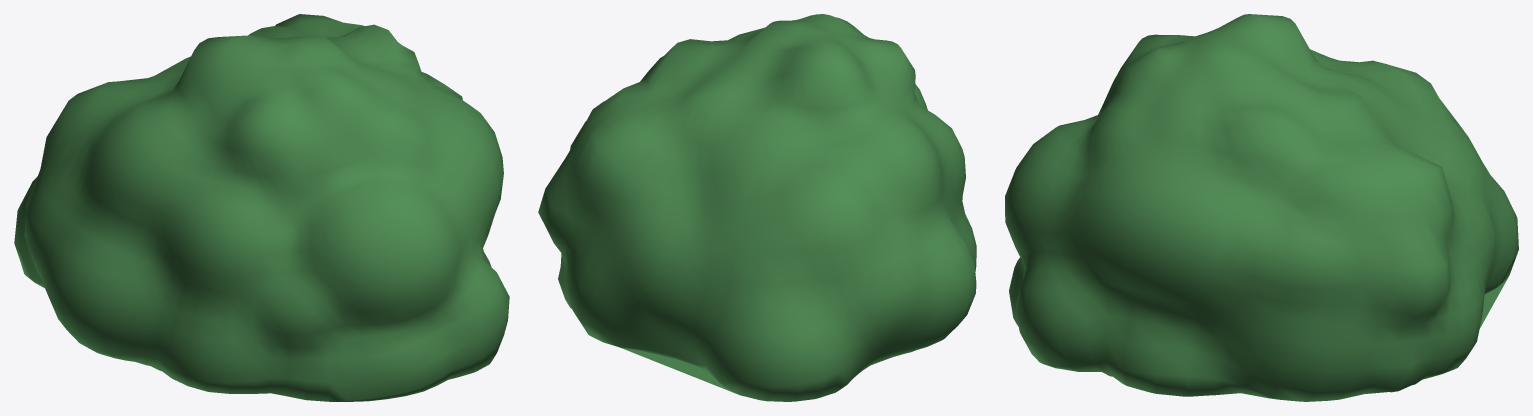
The model's file is Bush_1.fbx.
The picture shows the model from 3 angles, left to right: view 1: azimuth 30°, elevation 25°; view 2: azimuth 150°, elevation 25°; view 3: azimuth 270°, elevation 25°; orthographic projection. The views are drawn at different scales.
Visible parts, largest first — view 1: Bush_1; view 2: Bush_1; view 3: Bush_1.
Boxes of the visible parts, x1,y1,x2,y2 form: Bush_1: (14, 14, 509, 401); Bush_1: (538, 14, 976, 401); Bush_1: (1005, 14, 1518, 401).
Bounding box in the file's own units: 281 × 181 × 305.
